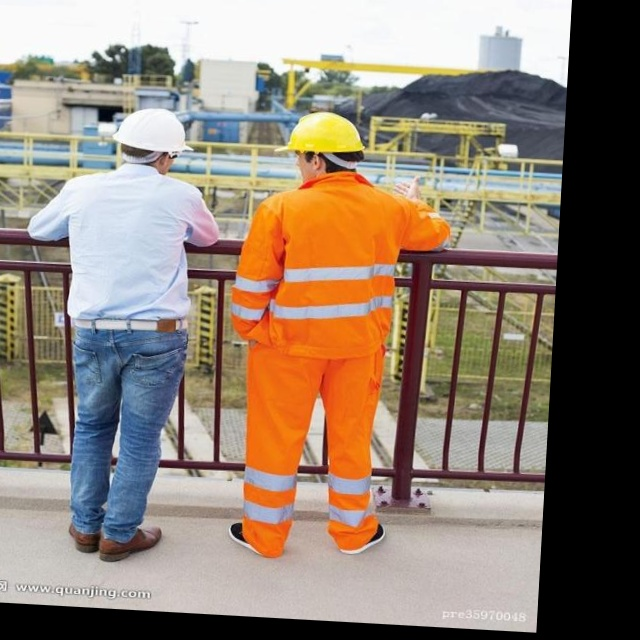Con_Casco: (281, 110, 363, 180), (115, 105, 195, 175)
Con_Chaleco: (244, 181, 420, 350)
Sin_Chaleco: (58, 169, 198, 319)
